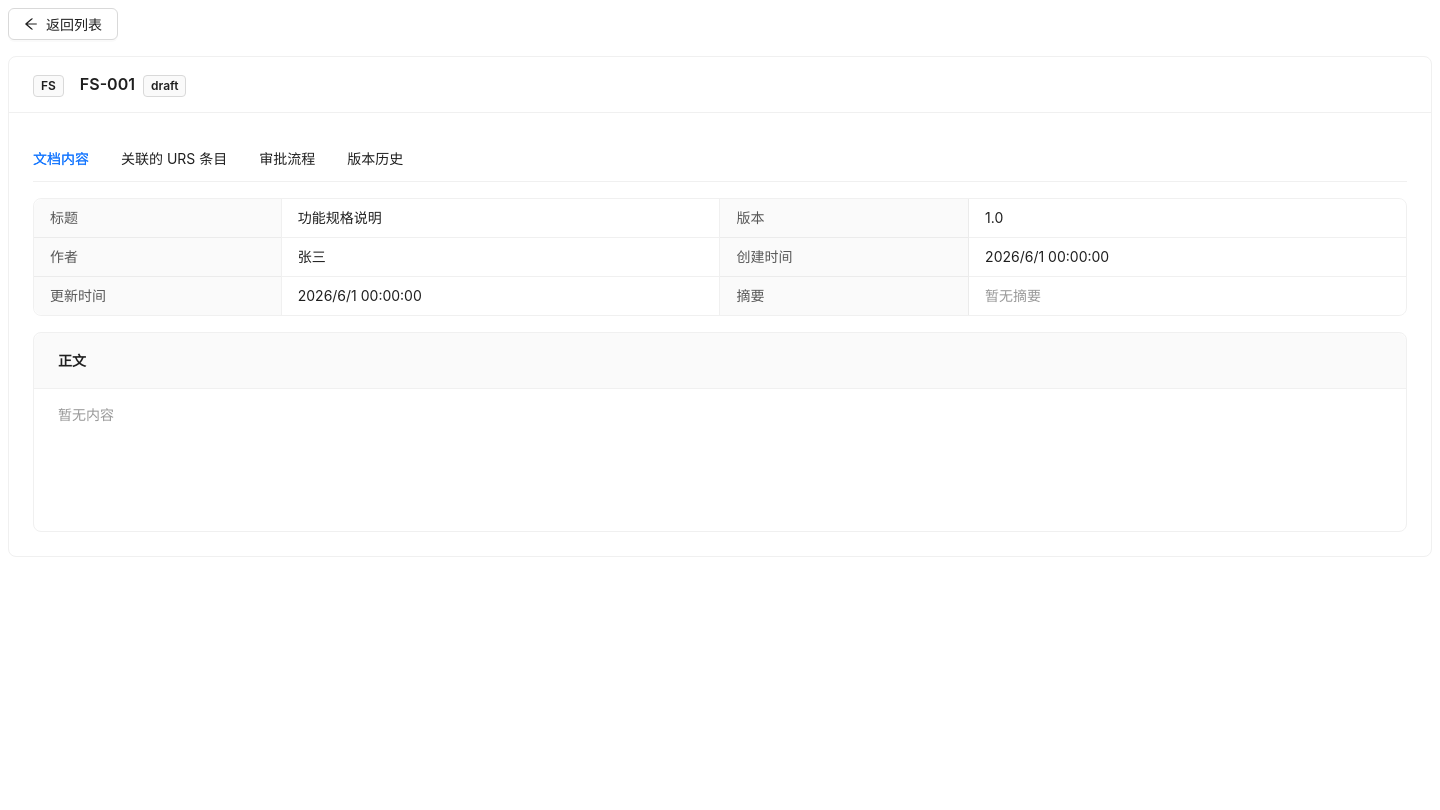
Test case: DocumentDetailPage 关联的 URS 条目 Tab › 当文档尚未关联任何 URS_Item 时，展示统一的"未关联 URS 条目"提示
Click the tab "关联的 URS 条目". click: (174, 159)
box: 121,148 -> 227,170
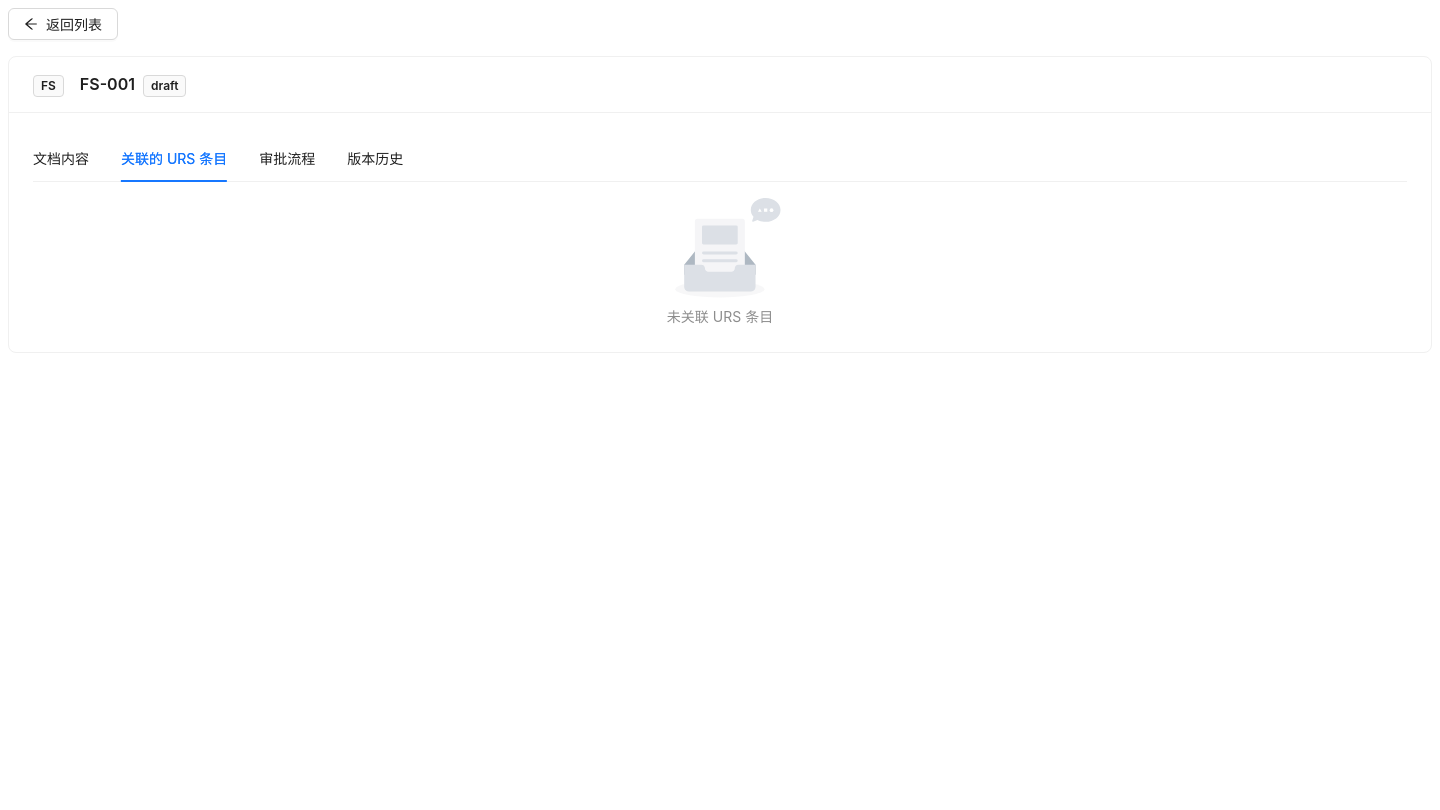
Result: the text "未关联 URS 条目" is shown at 667,308 -> 773,325
